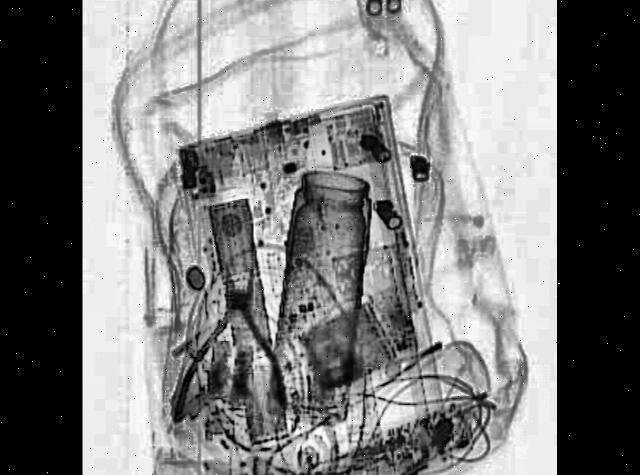Pliers: (172, 255, 288, 428)
